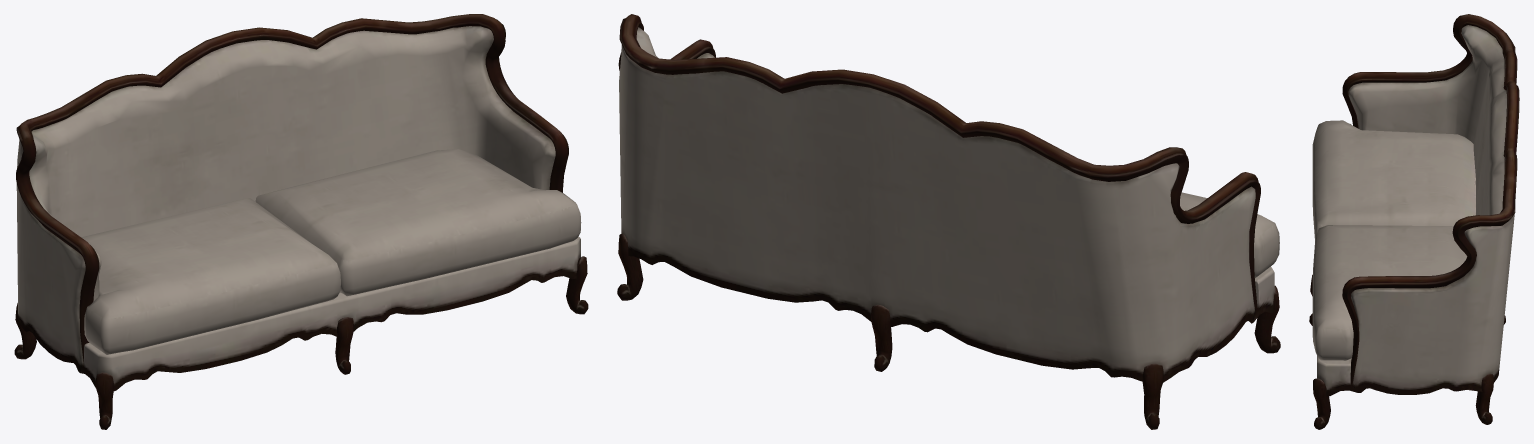
The model's file is Sofa_01.glb.
The picture shows the model from 3 angles, left to right: view 1: azimuth 30°, elevation 25°; view 2: azimuth 150°, elevation 25°; view 3: azimuth 270°, elevation 25°; orthographic projection. The views are drawn at different scales.
Parts seen in each view (by area): view 1: Sofa_01; view 2: Sofa_01; view 3: Sofa_01.
Boxes of the visible parts, bbox=[...] form: Sofa_01: bbox=[14, 14, 588, 429]; Sofa_01: bbox=[617, 14, 1280, 429]; Sofa_01: bbox=[1309, 14, 1519, 429].
Size of the model in its own units: 1.57 by 0.7966 by 0.658.
Materials: 1 (1 with a texture image).
